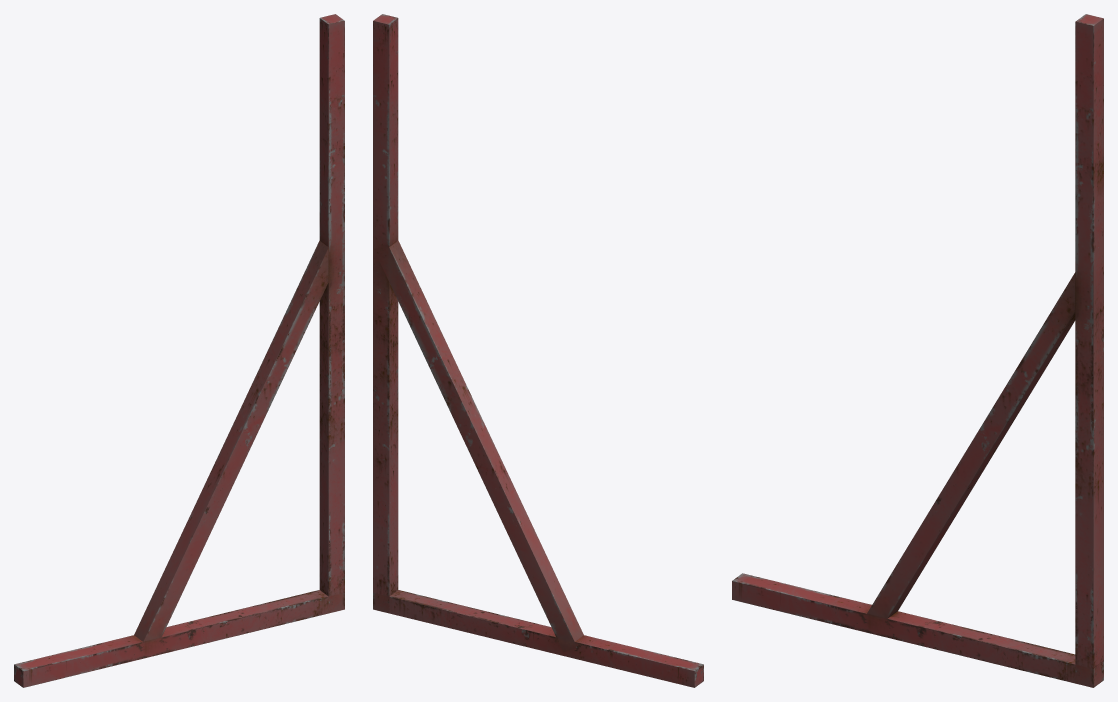
Rendered from cantinella.fbx.
3 views of the same model, side by side, from view 1: azimuth 30°, elevation 25°; view 2: azimuth 150°, elevation 25°; view 3: azimuth 330°, elevation 25° (orthographic). The views are drawn at different scales.
Visible parts, largest first — view 1: cantinella; view 2: cantinella; view 3: cantinella.
Boxes of the visible parts, x1=… form: cantinella: x1=14, y1=14, x2=344, y2=687; cantinella: x1=373, y1=14, x2=703, y2=687; cantinella: x1=732, y1=14, x2=1103, y2=687.
Size of the model in its own units: 400 by 700 by 20.
